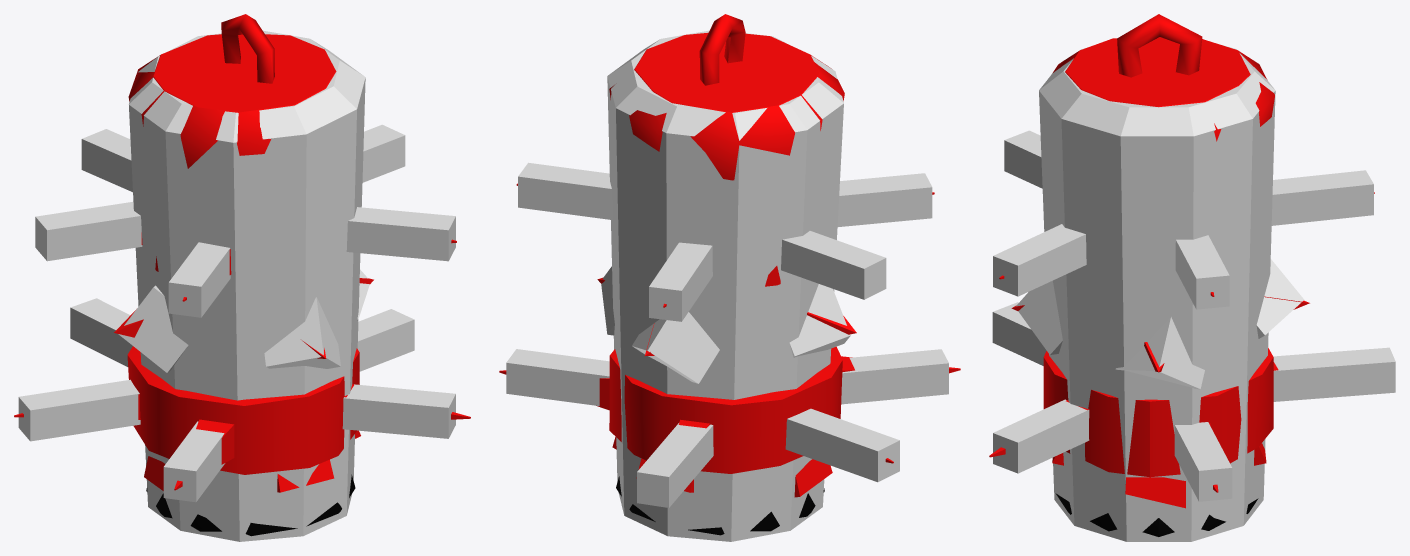
File: MSH_SwingTrap_Trap.fbx
3 renders of one model, left to right at view 1: azimuth 30°, elevation 25°; view 2: azimuth 150°, elevation 25°; view 3: azimuth 270°, elevation 25°, orthographic.
Parts seen in each view (by area): view 1: COL_SwingTrap_01, MSH_SwingTrap_Trap, COL_SwingTrap_07, COL_SwingTrap_10, COL_SwingTrap_05, COL_SwingTrap_02, COL_SwingTrap_06, COL_SwingTrap_11, COL_SwingTrap_15, COL_SwingTrap_12, COL_SwingTrap_08, COL_SwingTrap_09 (+2 smaller); view 2: COL_SwingTrap_01, MSH_SwingTrap_Trap, COL_SwingTrap_07, COL_SwingTrap_02, COL_SwingTrap_11, COL_SwingTrap_09, COL_SwingTrap_06, COL_SwingTrap_04, COL_SwingTrap_08, COL_SwingTrap_03, COL_SwingTrap_13, COL_SwingTrap_12 (+1 smaller); view 3: COL_SwingTrap_01, MSH_SwingTrap_Trap, COL_SwingTrap_08, COL_SwingTrap_03, COL_SwingTrap_10, COL_SwingTrap_05, COL_SwingTrap_09, COL_SwingTrap_04, COL_SwingTrap_14, COL_SwingTrap_15, COL_SwingTrap_11, COL_SwingTrap_13 (+1 smaller).
Boxes of the visible parts, x1=… form: COL_SwingTrap_01: x1=129, y1=30, x2=365, y2=541; MSH_SwingTrap_Trap: x1=14, y1=14, x2=470, y2=536; COL_SwingTrap_07: x1=18, y1=379, x2=140, y2=441; COL_SwingTrap_10: x1=342, y1=384, x2=455, y2=438; COL_SwingTrap_05: x1=346, y1=207, x2=455, y2=261; COL_SwingTrap_02: x1=35, y1=202, x2=142, y2=261; COL_SwingTrap_06: x1=168, y1=242, x2=230, y2=317; COL_SwingTrap_11: x1=163, y1=421, x2=225, y2=502; COL_SwingTrap_15: x1=264, y1=297, x2=340, y2=368; COL_SwingTrap_12: x1=118, y1=285, x2=188, y2=372; COL_SwingTrap_08: x1=70, y1=298, x2=132, y2=366; COL_SwingTrap_09: x1=357, y1=309, x2=414, y2=371; COL_SwingTrap_01: x1=607, y1=30, x2=843, y2=541; MSH_SwingTrap_Trap: x1=499, y1=14, x2=960, y2=535; COL_SwingTrap_07: x1=785, y1=408, x2=899, y2=482; COL_SwingTrap_02: x1=781, y1=231, x2=886, y2=299; COL_SwingTrap_11: x1=841, y1=349, x2=948, y2=404; COL_SwingTrap_09: x1=506, y1=349, x2=609, y2=405; COL_SwingTrap_06: x1=837, y1=173, x2=932, y2=226; COL_SwingTrap_04: x1=518, y1=162, x2=612, y2=219; COL_SwingTrap_08: x1=637, y1=423, x2=713, y2=507; COL_SwingTrap_03: x1=649, y1=242, x2=712, y2=321; COL_SwingTrap_13: x1=632, y1=312, x2=719, y2=383; COL_SwingTrap_12: x1=789, y1=284, x2=850, y2=357; COL_SwingTrap_01: x1=1039, y1=44, x2=1275, y2=541; MSH_SwingTrap_Trap: x1=989, y1=14, x2=1374, y2=536; COL_SwingTrap_08: x1=1273, y1=347, x2=1395, y2=401; COL_SwingTrap_03: x1=1271, y1=170, x2=1373, y2=225; COL_SwingTrap_10: x1=993, y1=399, x2=1089, y2=473; COL_SwingTrap_05: x1=993, y1=224, x2=1086, y2=296; COL_SwingTrap_09: x1=1174, y1=422, x2=1232, y2=501; COL_SwingTrap_04: x1=1175, y1=235, x2=1229, y2=309; COL_SwingTrap_14: x1=1115, y1=317, x2=1204, y2=389; COL_SwingTrap_15: x1=1016, y1=281, x2=1062, y2=354; COL_SwingTrap_11: x1=992, y1=302, x2=1046, y2=365; COL_SwingTrap_13: x1=1256, y1=259, x2=1304, y2=338.
Size of the model in its own units: 3.84 by 4.49 by 3.42.
